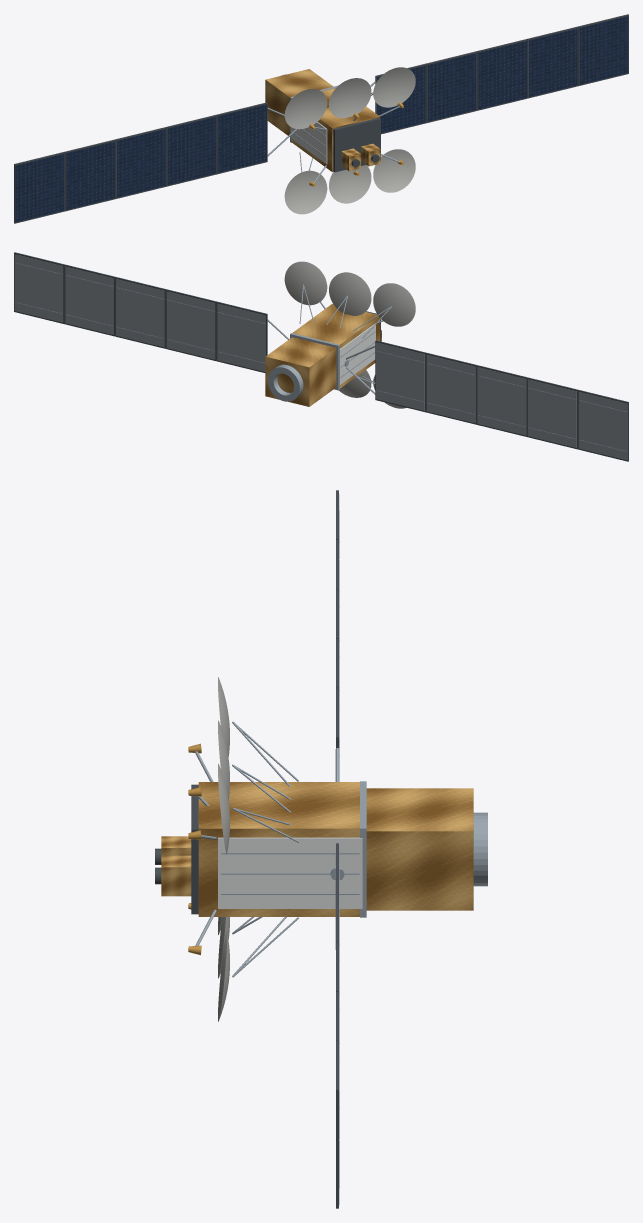
File: ref-spacebus-neo200-49332.glb
The picture shows the model from 3 angles, top to bottom: view 1: azimuth 30°, elevation 25°; view 2: azimuth 150°, elevation 25°; view 3: azimuth 270°, elevation 25°; orthographic projection. The views are drawn at different scales.
Parts seen in each view (by area): view 1: Solar cell panel (×10), Communications reflector (×6), Solar panel frame (×9), Service module, Earth-facing deck, Payload module, Radiator face, Communications feed assembly (×2); view 2: Rear array substrate (×10), Communications reflector (×4), Solar panel frame (×10), Service module, Payload module, Radiator face, Launch adapter ring, Module interface; view 3: Service module, Payload module, Radiator face, Communications feed assembly, Launch adapter ring.
Part boxes in pixels (box(x1,y1,x2,y2)): Solar cell panel (×10): box(15, 16, 628, 222); Communications reflector (×6): box(284, 67, 415, 214); Solar panel frame (×9): box(14, 14, 628, 223); Service module: box(265, 69, 333, 135); Earth-facing deck: box(333, 117, 380, 172); Payload module: box(292, 88, 379, 171); Radiator face: box(290, 122, 327, 164); Communications feed assembly (×2): box(341, 143, 380, 171); Rear array substrate (×10): box(14, 254, 627, 460); Communications reflector (×4): box(284, 261, 415, 397); Solar panel frame (×10): box(14, 252, 628, 461); Service module: box(265, 337, 336, 406); Payload module: box(293, 304, 379, 388); Radiator face: box(339, 323, 375, 384); Launch adapter ring: box(268, 364, 303, 401); Module interface: box(290, 333, 339, 390); Service module: box(366, 788, 473, 910); Payload module: box(198, 782, 359, 916); Radiator face: box(218, 837, 362, 908); Communications feed assembly: box(161, 855, 191, 896); Launch adapter ring: box(473, 812, 487, 886).
Bounding box in the file's own units: 44.96 × 8.69 × 10.56.
8 materials, 2 textured.
